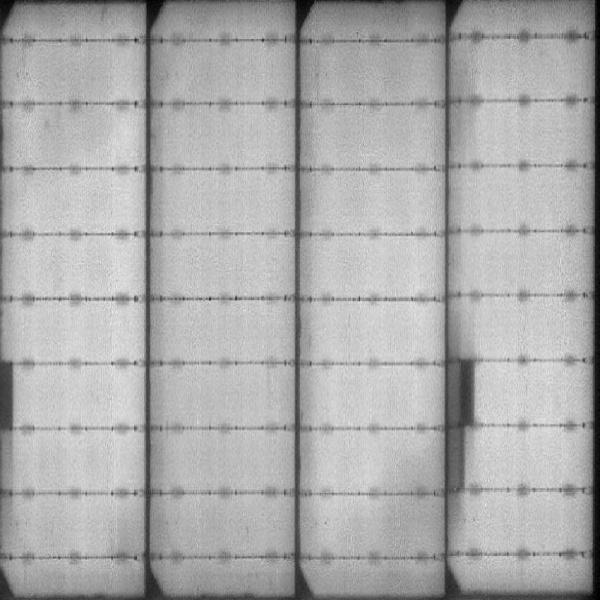black_border: (444, 353, 479, 489), (1, 352, 16, 434)
